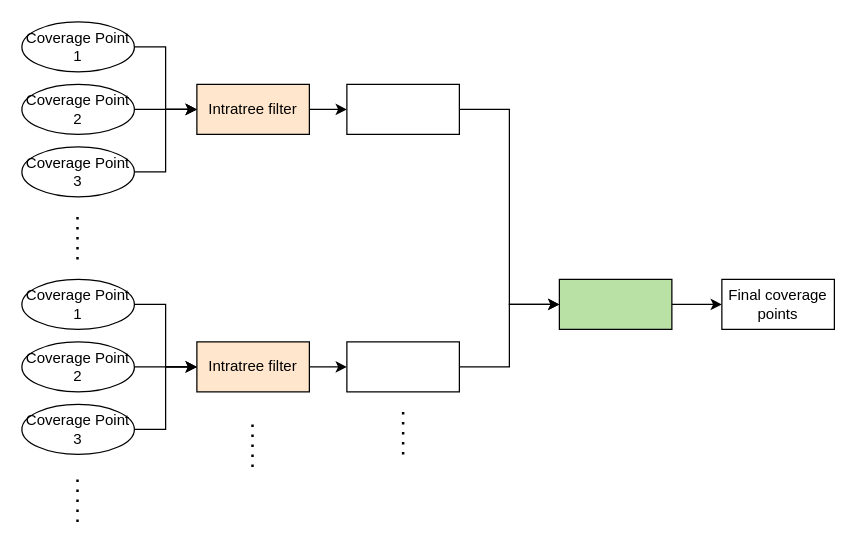
Image size: 856x546. Some labels were removed from this diagram. The box of each missing label's shape, as (x1, y1, x2, y2) in pixels:
Intertree filter: (558, 278, 672, 329)
RRT1 coverage points: (346, 83, 459, 134)
RRT2 coverage points: (346, 341, 459, 392)
